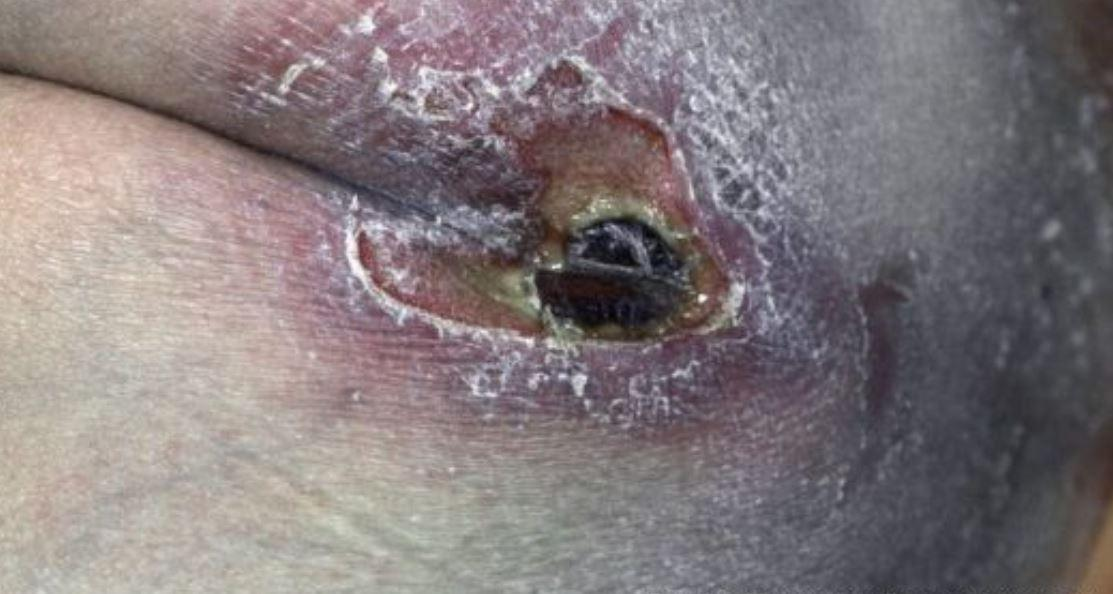Stage4: (340, 64, 822, 468)
